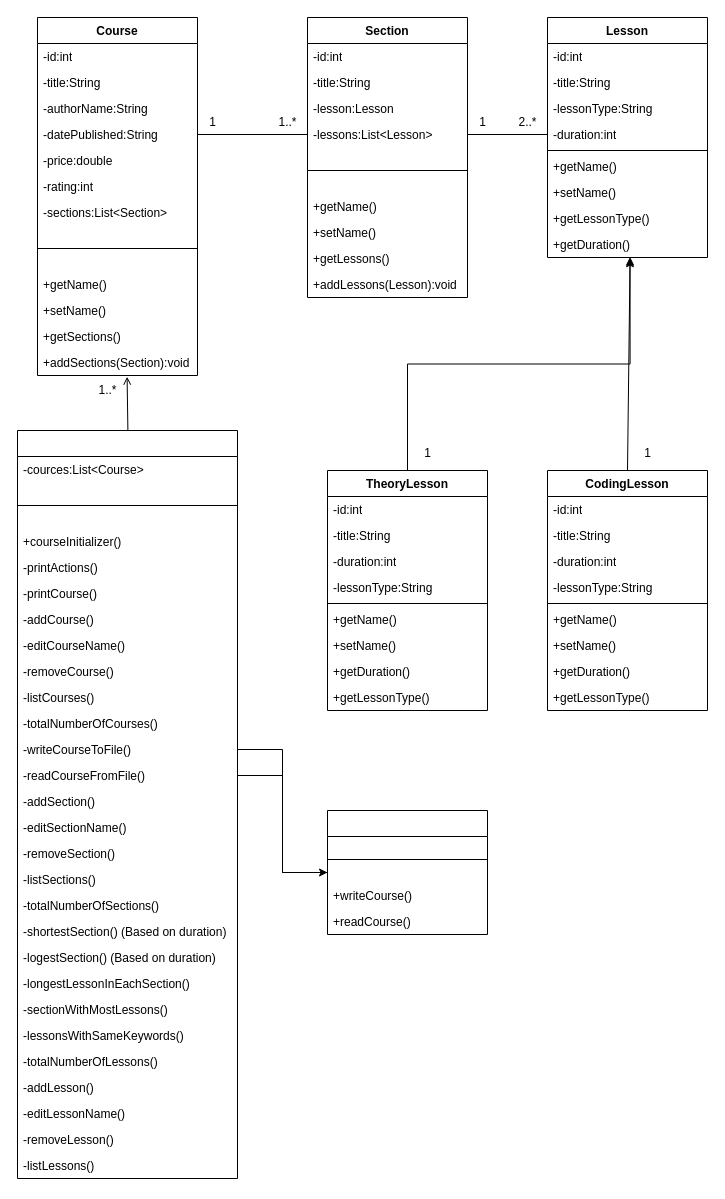
Some shapes in this 725 by 1199 pixel diagram are drawn without their labels. The shapes that lost their labels are listed below. From the top down, each one's box as (x1, y1, x2, y2) in pixels, then its label:
(16, 430, 238, 1178): CourseManager
(326, 810, 488, 934): CourseFileHandler
